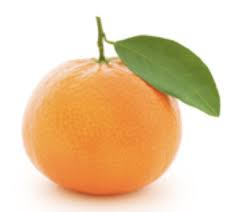orange: (20, 42, 186, 198)
